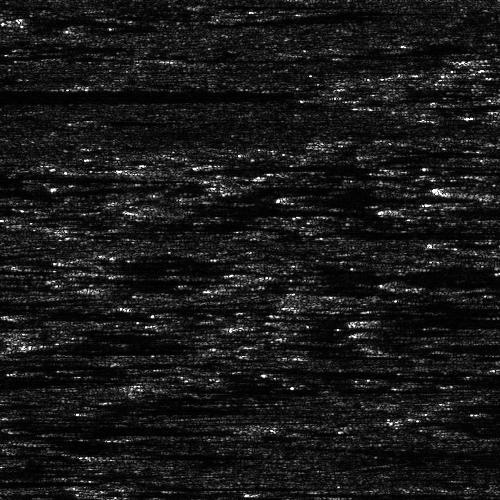object: (365, 203, 470, 216), (62, 451, 155, 458), (310, 228, 363, 235), (451, 185, 500, 192), (0, 312, 43, 317), (484, 268, 500, 275), (364, 317, 385, 320)
shadow: (418, 203, 500, 216), (109, 451, 248, 458), (0, 91, 179, 96), (336, 228, 457, 235), (17, 312, 138, 317), (375, 317, 500, 320), (0, 398, 30, 409), (0, 477, 35, 486), (0, 450, 23, 463), (0, 450, 55, 455), (0, 186, 38, 193)
